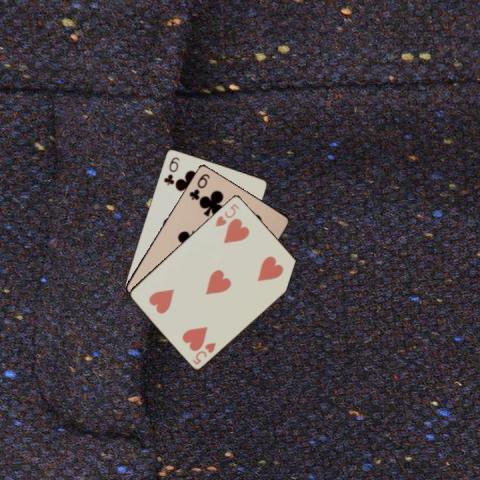5h: (212, 201, 241, 228), (190, 339, 218, 366)
6c: (186, 170, 211, 201), (161, 153, 180, 187)
